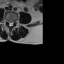CCS_stenosis: (10, 21, 11, 27)
LFS_severe_stenosis: (13, 19, 15, 24)
LLS_normal: (11, 21, 13, 26)
RFS_stenosis: (6, 19, 8, 23)
RLS_normal: (8, 20, 10, 26)
